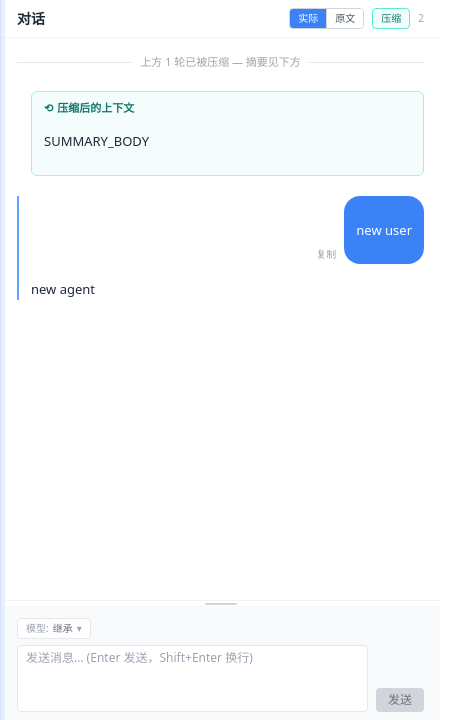
Test: ConversationView › original view toggle shows pre-compact ancestors and hides compact node
This screenshot has width=457, height=720.
Expected: the element with test id "conversation-node-b" is shown, [17, 90, 424, 176]
// Click "Original" toggle.
Click the button with test id "cv-view-original" at (345, 18), box [326, 9, 363, 28]
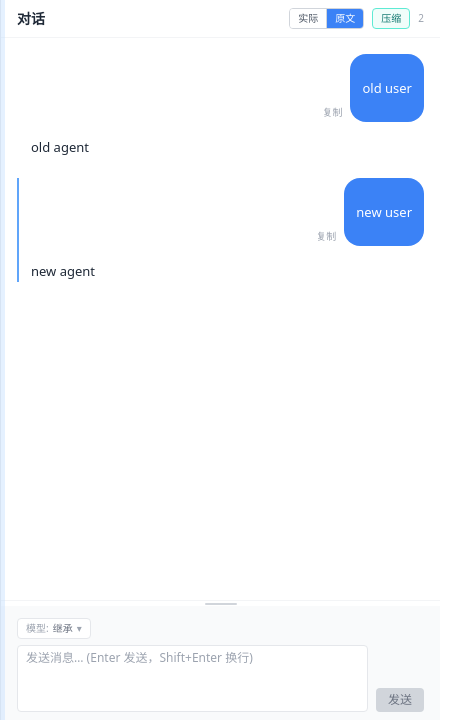
Expected: the element with test id "conversation-node-a" is shown, [17, 54, 424, 158]
Expected: the element with test id "conversation-node-b" is gone
Expected: the element with test id "compact-truncation-notice" is gone
